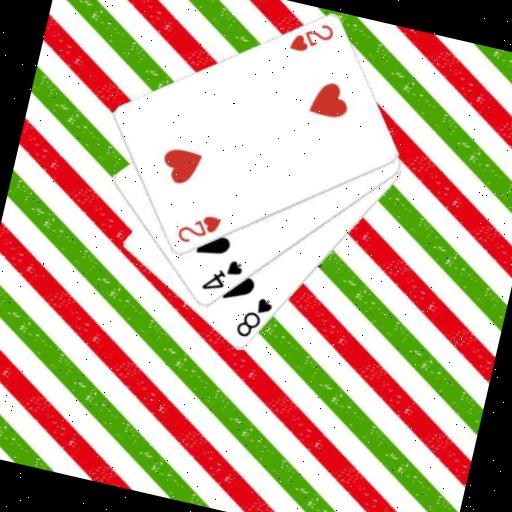2H: (285, 15, 338, 61), (172, 206, 224, 252)
4S: (198, 252, 246, 300)
8S: (231, 290, 276, 344)
